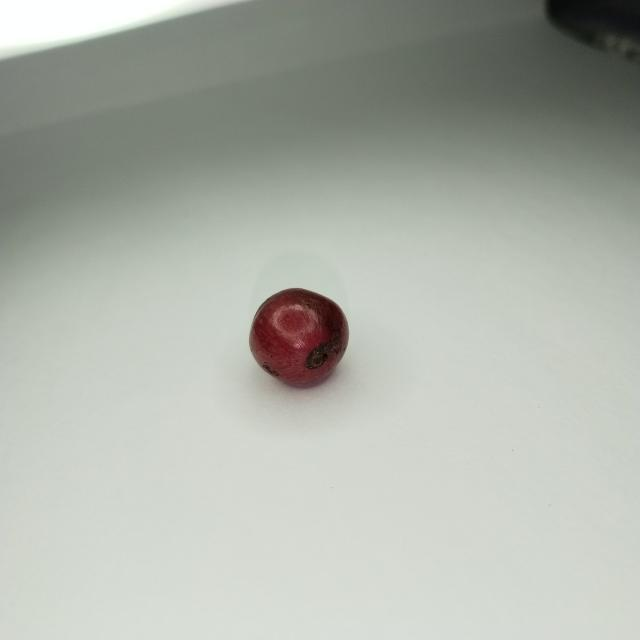Infectado: (248, 289, 350, 390)
